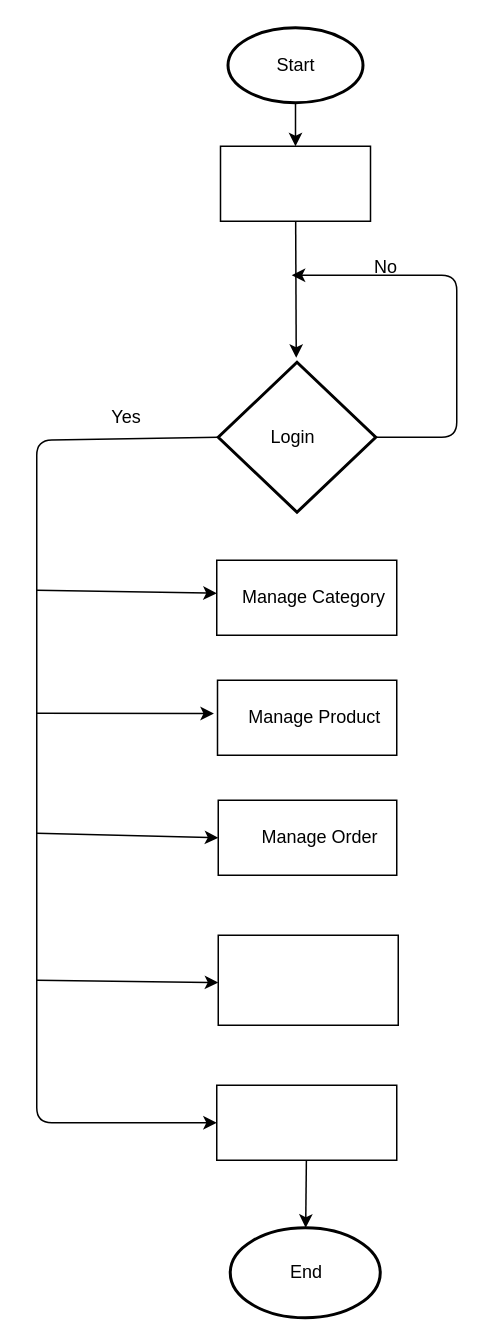
Image size: 495x1344. Some labels were removed from this diagram. The centre of each missing label's shape, as x and y in pixels:
Admin: point 294,183
Logout: point 306,1122
Purchase Clothes: point 307,979
